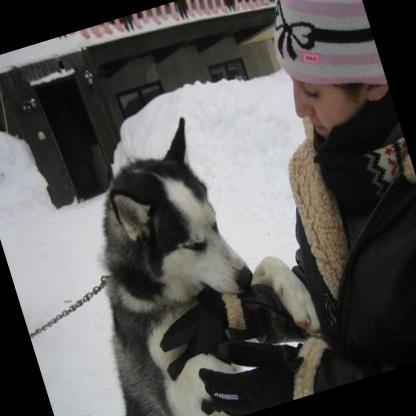Siberian_husky: (23, 94, 336, 416)
